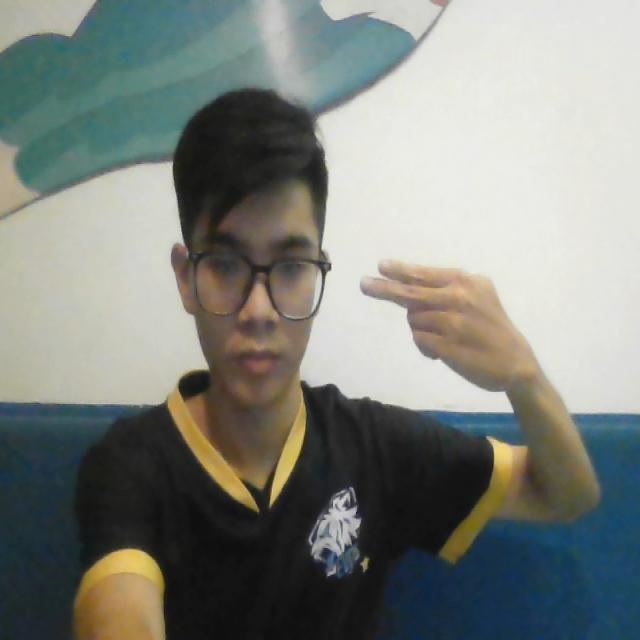H: (357, 251, 535, 397)
